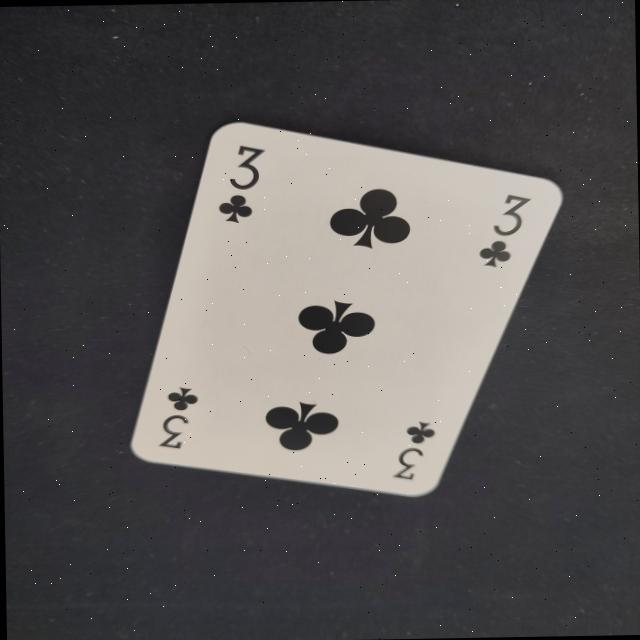3c: (461, 188, 536, 272), (210, 135, 276, 229), (143, 381, 208, 458), (383, 413, 440, 484)
